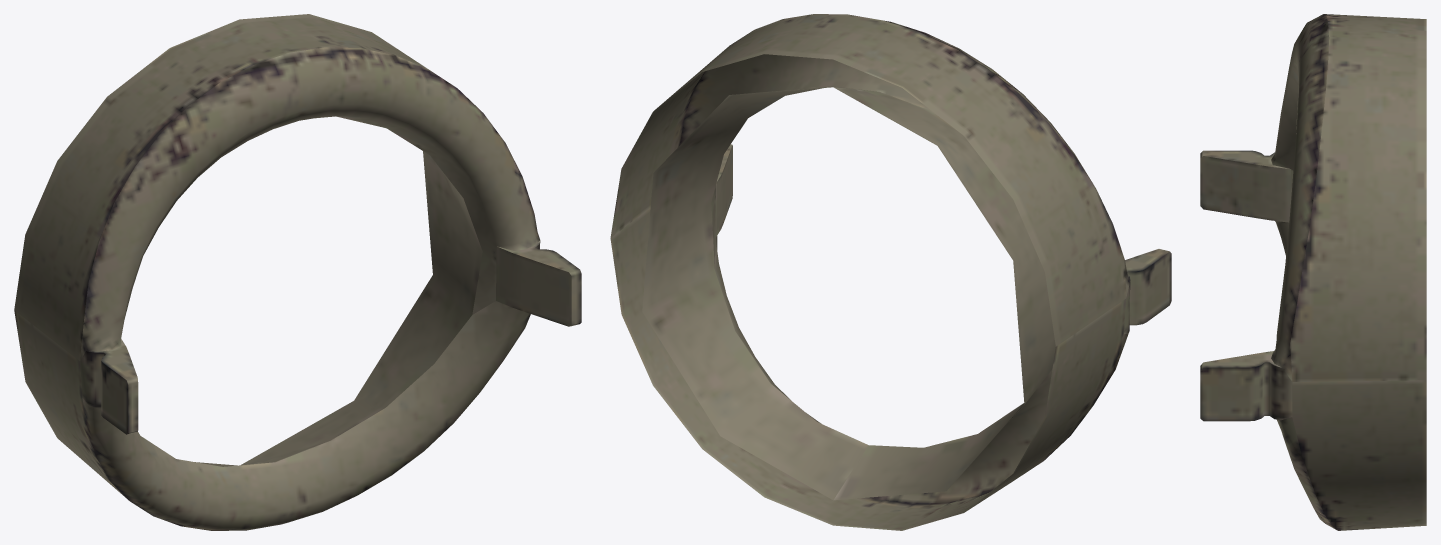
Rendered from Turret_02.glb.
The picture shows the model from 3 angles, left to right: view 1: azimuth 30°, elevation 25°; view 2: azimuth 150°, elevation 25°; view 3: azimuth 270°, elevation 25°; orthographic projection.
Parts seen in each view (by area): view 1: set_0_group_0; view 2: set_0_group_0; view 3: set_0_group_0.
Part boxes in pixels (box(x1,y1,x2,y2)): set_0_group_0: box(14, 14, 581, 530); set_0_group_0: box(610, 14, 1171, 530); set_0_group_0: box(1200, 14, 1426, 530).
Size of the model in its own units: 1.2 by 1.2 by 0.5257.
1 material, 1 textured.
